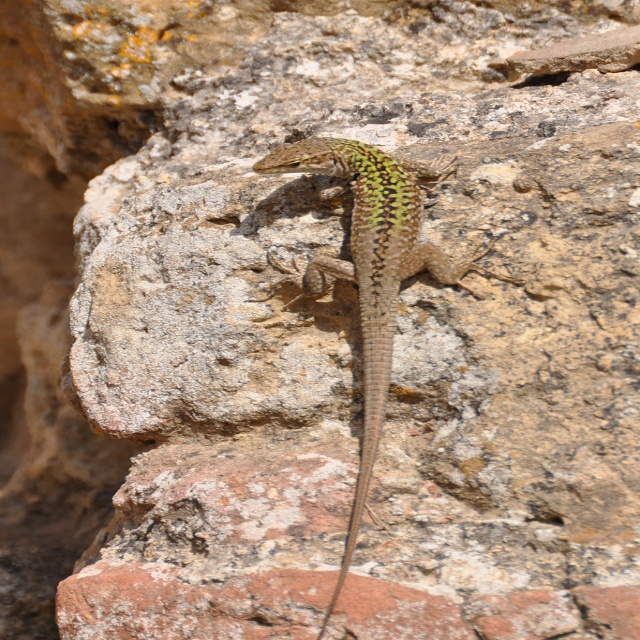Lizard: (238, 113, 477, 588)
